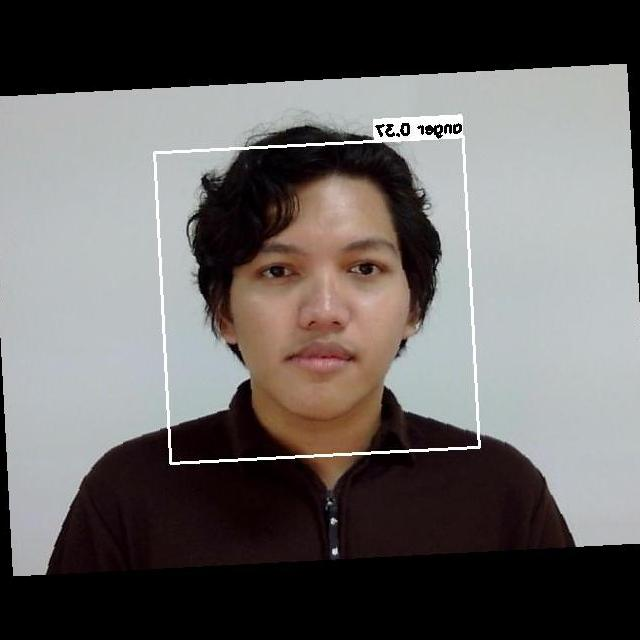Natural: (215, 214, 419, 401)
